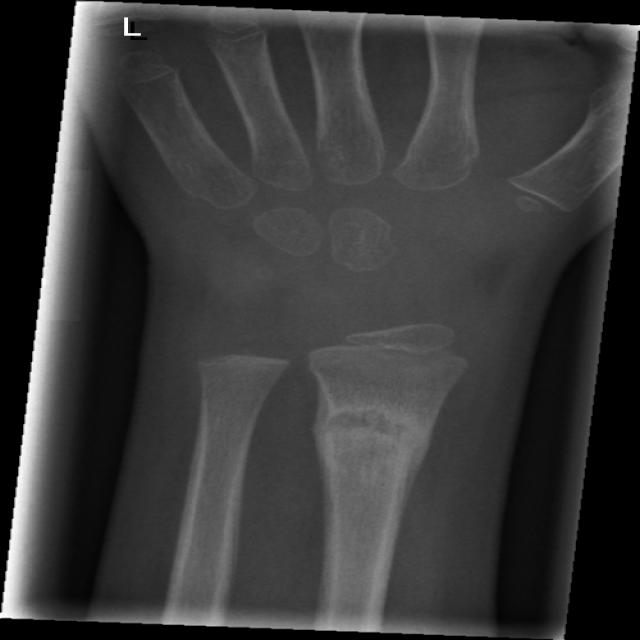radius fracture: (282, 359, 456, 534)
